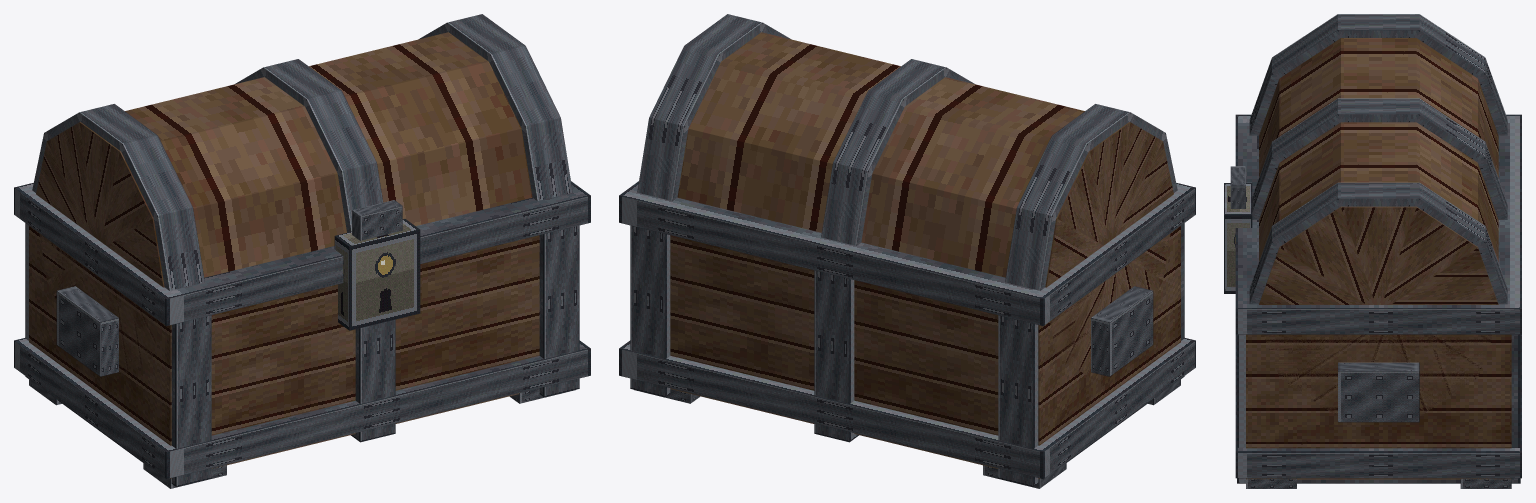
The model's file is prisao_bau.glb.
3 renders of one model, left to right at view 1: azimuth 30°, elevation 25°; view 2: azimuth 150°, elevation 25°; view 3: azimuth 270°, elevation 25°, orthographic. The views are drawn at different scales.
Parts seen in each view (by area): view 1: prisao_bau; view 2: prisao_bau; view 3: prisao_bau.
Part boxes in pixels (x1=…): prisao_bau: x1=14, y1=14, x2=590, y2=488; prisao_bau: x1=619, y1=14, x2=1195, y2=488; prisao_bau: x1=1224, y1=14, x2=1521, y2=488.
Bounding box in the file's own units: 0.95 × 0.6254 × 0.5825.
1 material, 1 textured.
